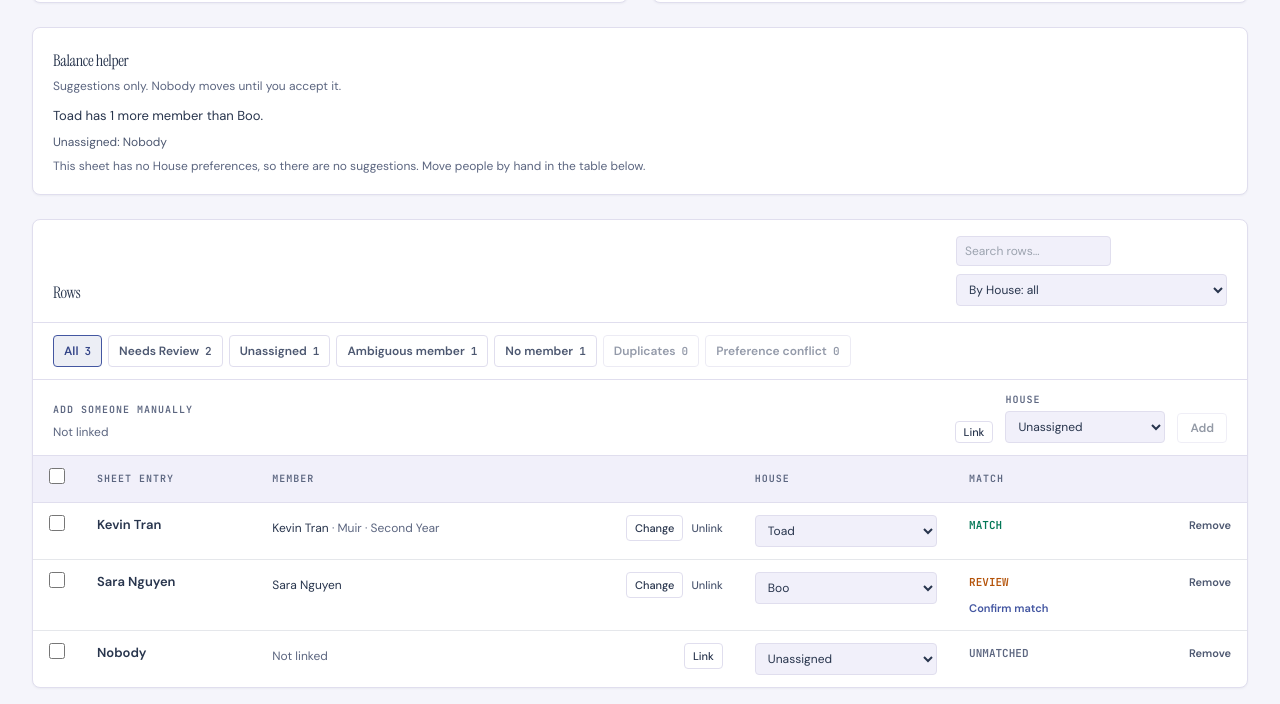
Test: filters, bulk actions, and history › Escape cancels the bulk confirmation without changing anything
(page scrolled)
Click the checkbox named "Select Kevin Tran" at (57, 523), box [49,515,65,531]
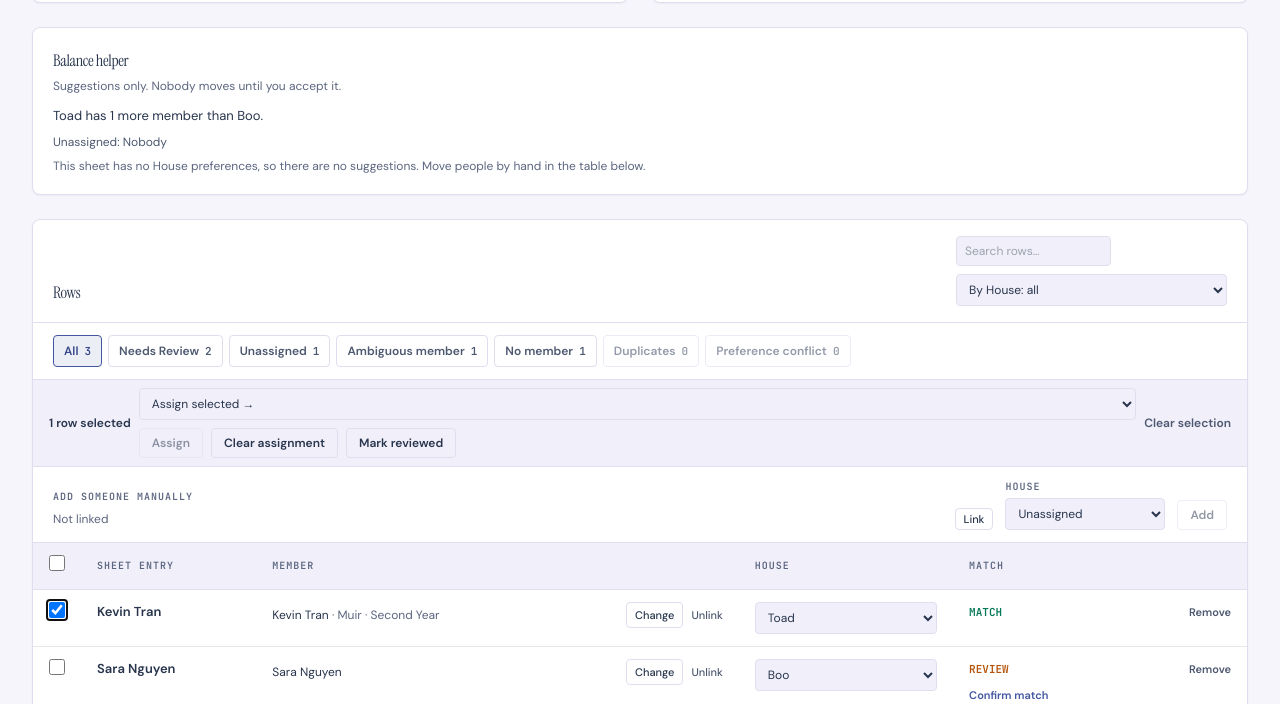
Click the button "Clear assignment" at (275, 443), box [211,428,338,458]
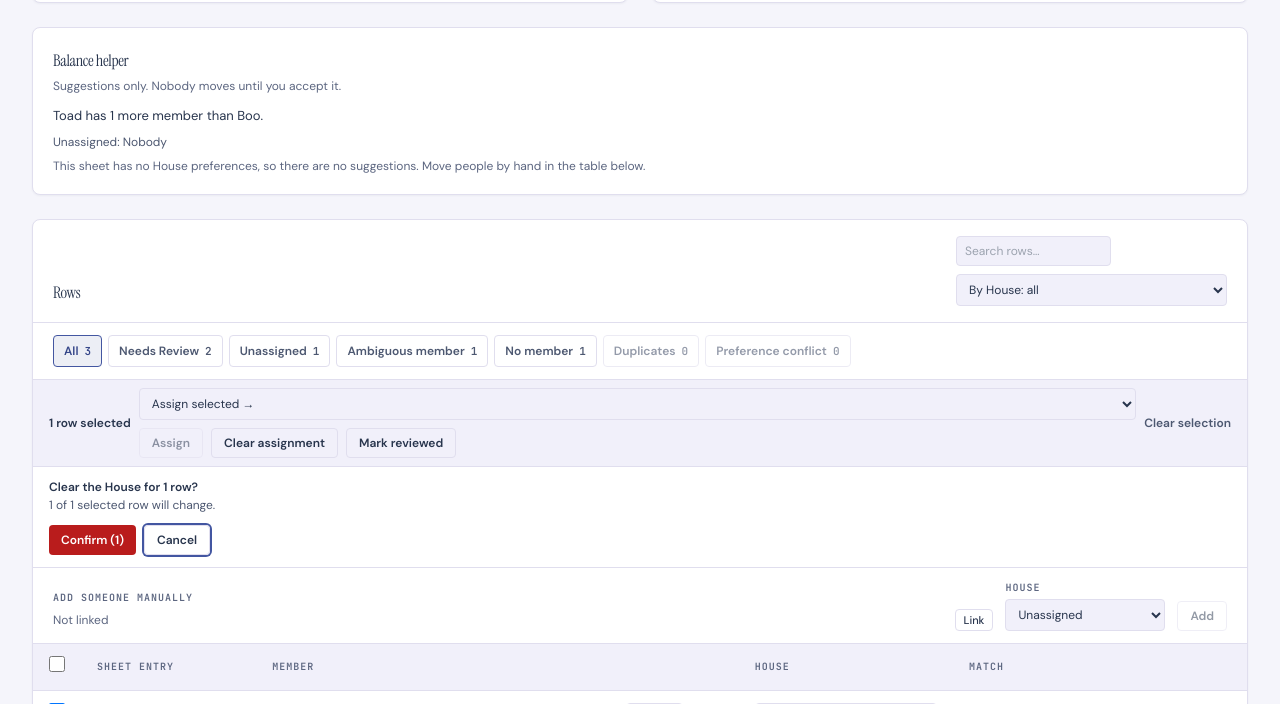
Press Escape
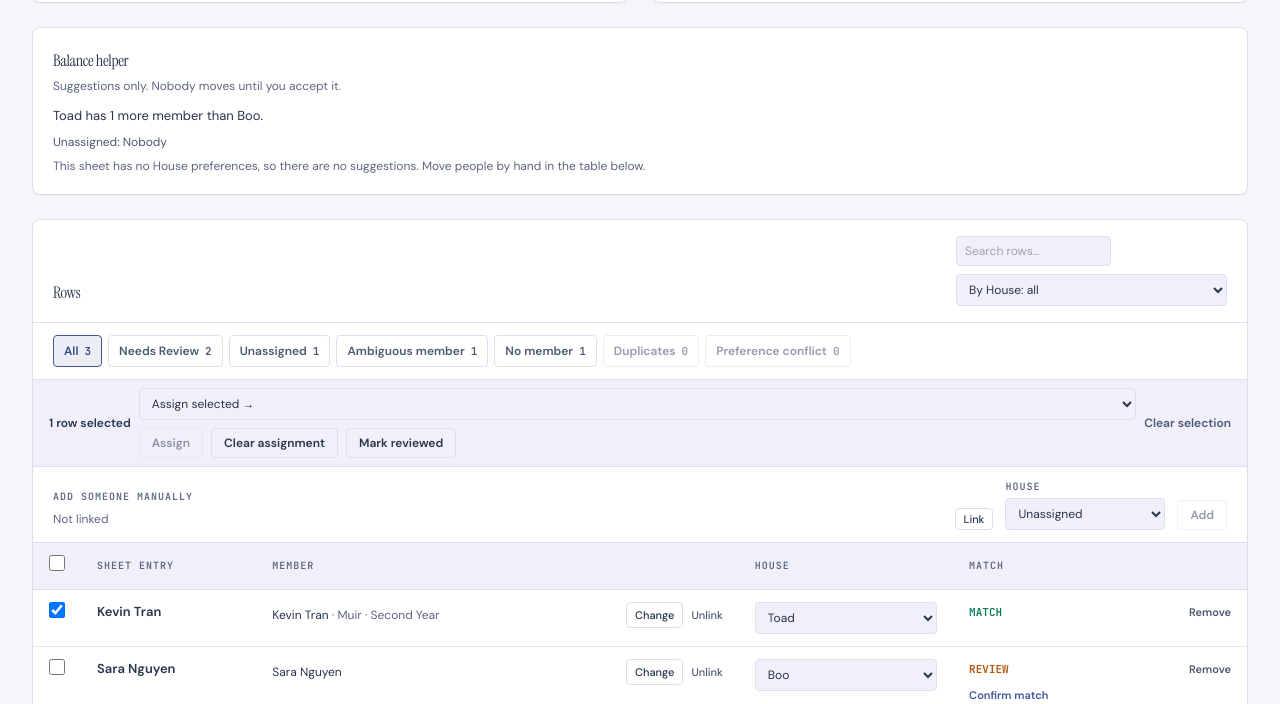
Check: the text "Clear the House for" is gone
